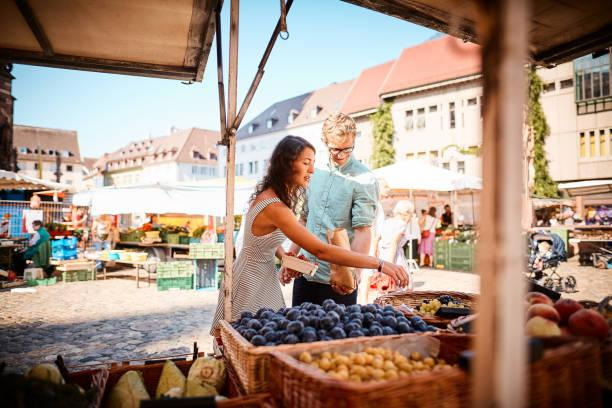without_mask: (270, 128, 317, 191), (317, 110, 368, 168)
